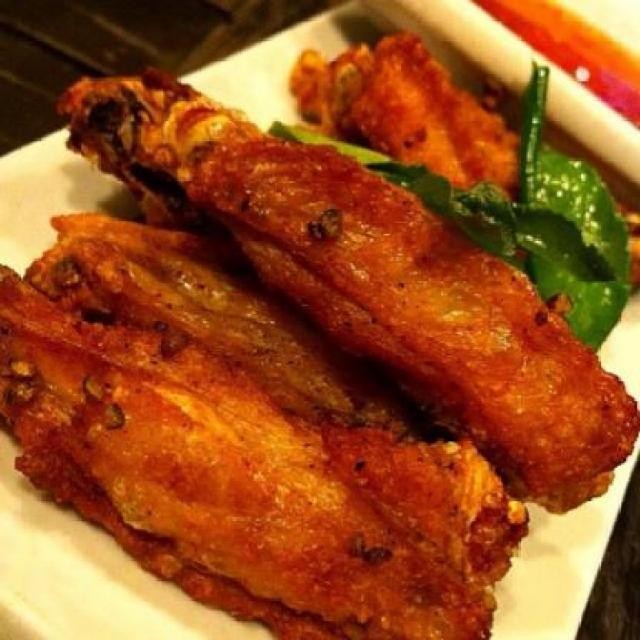Deep fried chicken wing: (12, 42, 630, 627)
